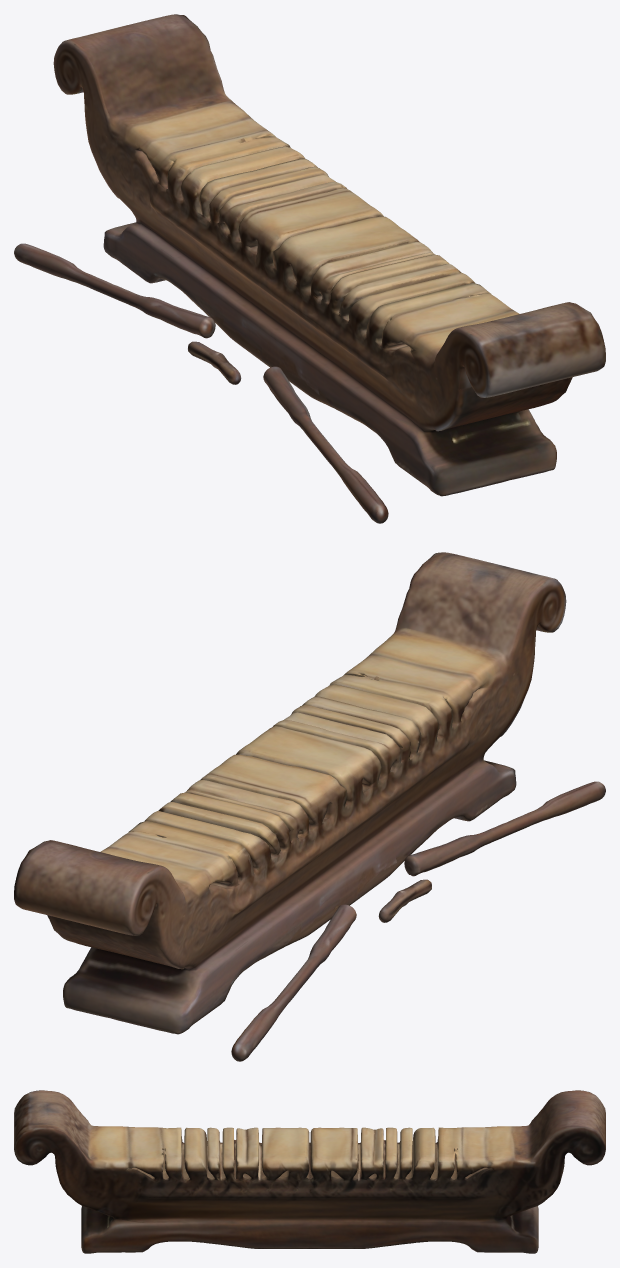
The model's file is jawa_saron_degung.glb.
3 views of the same model, one above another, from view 1: azimuth 30°, elevation 25°; view 2: azimuth 150°, elevation 25°; view 3: azimuth 270°, elevation 25° (orthographic). The views are drawn at different scales.
Parts seen in each view (by area): view 1: Object_4; view 2: Object_4; view 3: Object_4.
Boxes of the visible parts, left/top/right/bottom form: Object_4: left=14, top=14, right=605, bottom=523; Object_4: left=14, top=552, right=605, bottom=1061; Object_4: left=14, top=1090, right=605, bottom=1253.
Size of the model in its own units: 0.5259 by 0.4693 by 2.
1 material, 1 textured.
